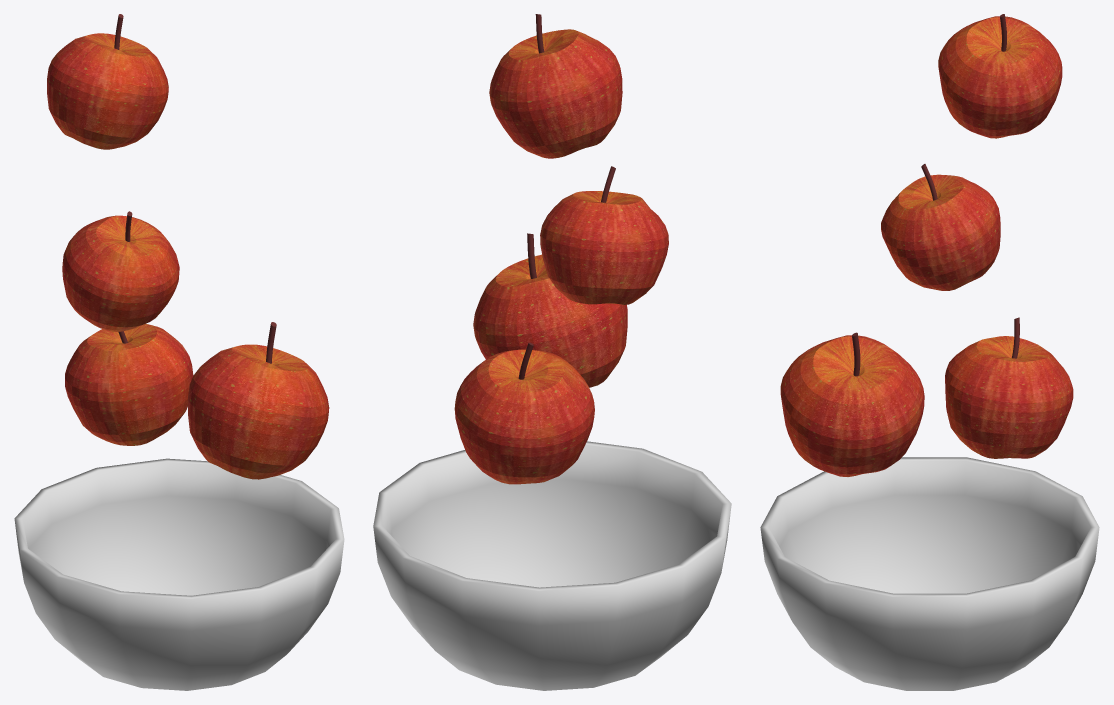
Rendered from Schuessel.glb.
The picture shows the model from 3 angles, left to right: view 1: azimuth 30°, elevation 25°; view 2: azimuth 150°, elevation 25°; view 3: azimuth 270°, elevation 25°; orthographic projection. The views are drawn at different scales.
Parts seen in each view (by area): view 1: Schuessel, Apfel4, Apfel3, Apfel2, Apfel1; view 2: Schuessel, Apfel3, Apfel2, Apfel1, Apfel4; view 3: Schuessel, Apfel4, Apfel3, Apfel2, Apfel1.
Part boxes in pixels (left/top/right/bottom): Schuessel: left=14, top=458, right=344, bottom=690; Apfel4: left=188, top=344, right=329, bottom=479; Apfel3: left=65, top=323, right=193, bottom=445; Apfel2: left=47, top=33, right=168, bottom=149; Apfel1: left=62, top=215, right=179, bottom=331; Schuessel: left=373, top=441, right=731, bottom=690; Apfel3: left=454, top=349, right=594, bottom=484; Apfel2: left=489, top=29, right=622, bottom=158; Apfel1: left=540, top=191, right=668, bottom=304; Apfel4: left=473, top=254, right=627, bottom=387; Schuessel: left=760, top=457, right=1099, bottom=690; Apfel4: left=780, top=335, right=924, bottom=476; Apfel3: left=945, top=336, right=1073, bottom=458; Apfel2: left=938, top=16, right=1062, bottom=138; Apfel1: left=881, top=174, right=1000, bottom=290.
Size of the model in its own units: 1.95 by 4.13 by 2.
Materials: 3 (1 with a texture image).
